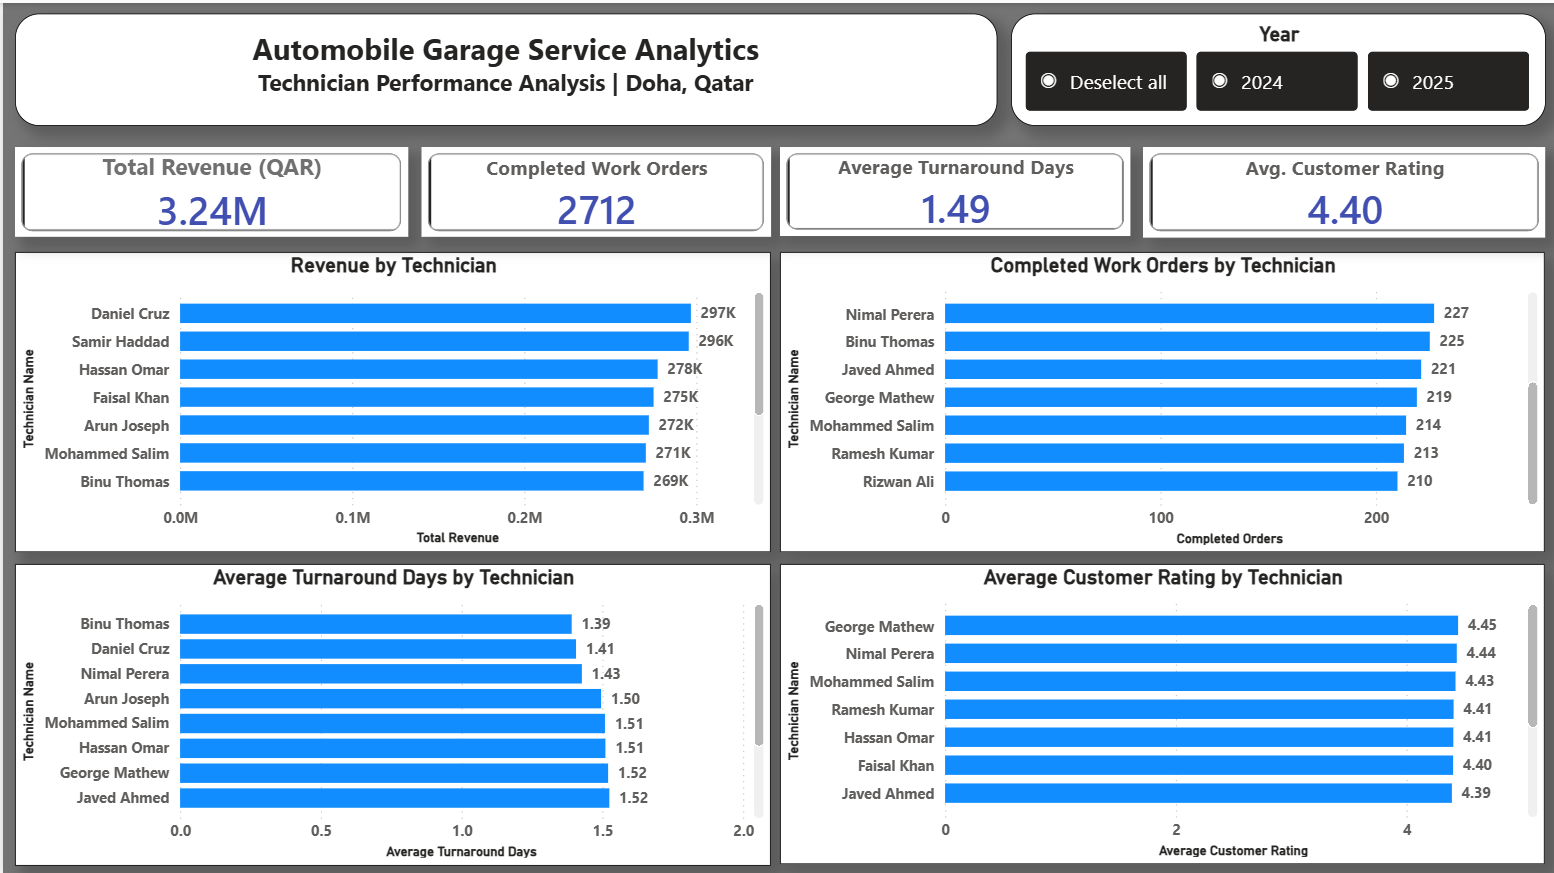

The dashboard page shown, as its layout file describes it:
{"tool":"powerbi","page":{"name":"Technician Performance Analysis","canvas":[1280,720],"ordinal":2},"visuals":[{"type":"clusteredBarChart","title":"Revenue by Technician","fields":{"Category":["TechniciansTable.TechnicianName"],"Y":["WorkOrdersTable.Total Revenue"]},"box":[24.5,204.9,608.2,247.4],"z":0},{"type":"cardVisual","title":"Total Revenue (QAR)","fields":{"Data":["WorkOrdersTable.Total Revenue"]},"box":[24.5,118.6,309.3,74.7],"z":1000},{"type":"clusteredBarChart","title":"Completed Work Orders by Technician","fields":{"Category":["TechniciansTable.TechnicianName"],"Y":["WorkOrdersTable.Completed Work Orders"]},"box":[640.4,204.9,621.1,247.4],"z":2000},{"type":"cardVisual","title":"Total Revenue (QAR)","fields":{"Data":["WorkOrdersTable.Completed Work Orders"]},"box":[345.3,118.6,278.3,74.7],"z":3000},{"type":"clusteredBarChart","title":"Average Turnaround Days by Technician","fields":{"Category":["TechniciansTable.TechnicianName"],"Y":["WorkOrdersTable.Average Turnaround Days"]},"box":[23.2,462.6,609.5,247.4],"z":4000},{"type":"cardVisual","title":"Total Revenue (QAR)","fields":{"Data":["WorkOrdersTable.Average Turnaround Days"]},"box":[640.4,118.6,288.6,73.5],"z":5000},{"type":"clusteredBarChart","title":"Average Customer Rating by Technician","fields":{"Category":["TechniciansTable.TechnicianName"],"Y":["WorkOrdersTable.Average Customer Rating"]},"box":[640.4,462.6,621.1,247.4],"z":6000},{"type":"textbox","box":[23.2,9,808,92.8],"z":7000},{"type":"cardVisual","title":"Total Revenue (QAR)","fields":{"Data":["WorkOrdersTable.Average Customer Rating"]},"box":[939.4,118.6,322.1,73.5],"z":8000},{"type":"advancedSlicerVisual","fields":{"Values":["DateTable.Year"]},"box":[841.5,9,420.1,92.8],"z":9000}]}

Visuals, with their boxes in screenshot pixels (x1, y1, x2, y2), scaled from the page's 1280x720 canvas onto the 1554x873 screenshot:
"Revenue by Technician" clusteredBarChart: (30,248,768,548)
"Total Revenue (QAR)" cardVisual: (30,144,405,234)
"Completed Work Orders by Technician" clusteredBarChart: (777,248,1532,548)
"Total Revenue (QAR)" cardVisual: (419,144,757,234)
"Average Turnaround Days by Technician" clusteredBarChart: (28,561,768,861)
"Total Revenue (QAR)" cardVisual: (777,144,1128,233)
"Average Customer Rating by Technician" clusteredBarChart: (777,561,1532,861)
textbox: (28,11,1009,123)
"Total Revenue (QAR)" cardVisual: (1140,144,1532,233)
advancedSlicerVisual - DateTable.Year: (1022,11,1532,123)
